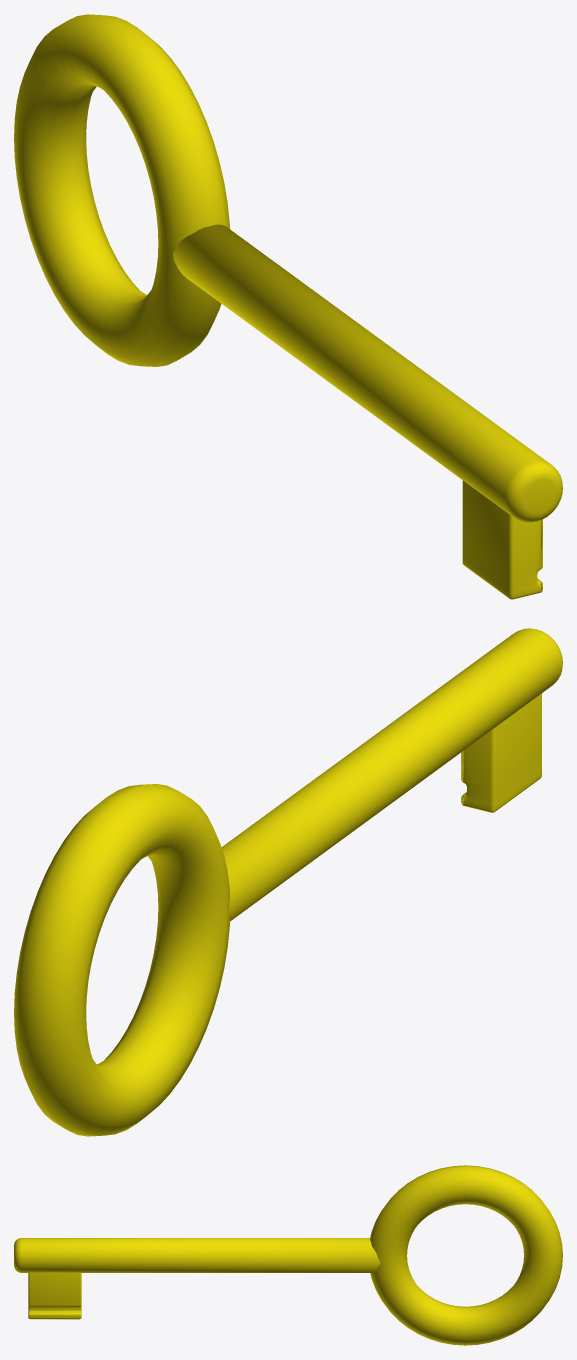
Rendered from Key.fbx.
3 views of the same model, one above another, from view 1: azimuth 30°, elevation 25°; view 2: azimuth 150°, elevation 25°; view 3: azimuth 270°, elevation 25° (orthographic). The views are drawn at different scales.
Parts seen in each view (by area): view 1: Key; view 2: Key; view 3: Key.
Boxes of the visible parts, left/top/right/bottom form: Key: left=14, top=14, right=562, bottom=599; Key: left=14, top=628, right=562, bottom=1136; Key: left=14, top=1165, right=562, bottom=1345.
Size of the model in its own units: 7.05 by 35.23 by 99.21.
